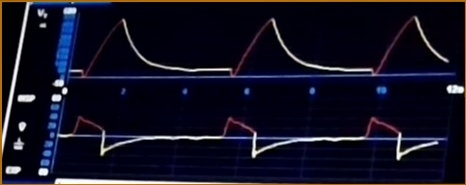Flow: (66, 109, 438, 172)
Leakage Volume: (75, 14, 449, 83)
